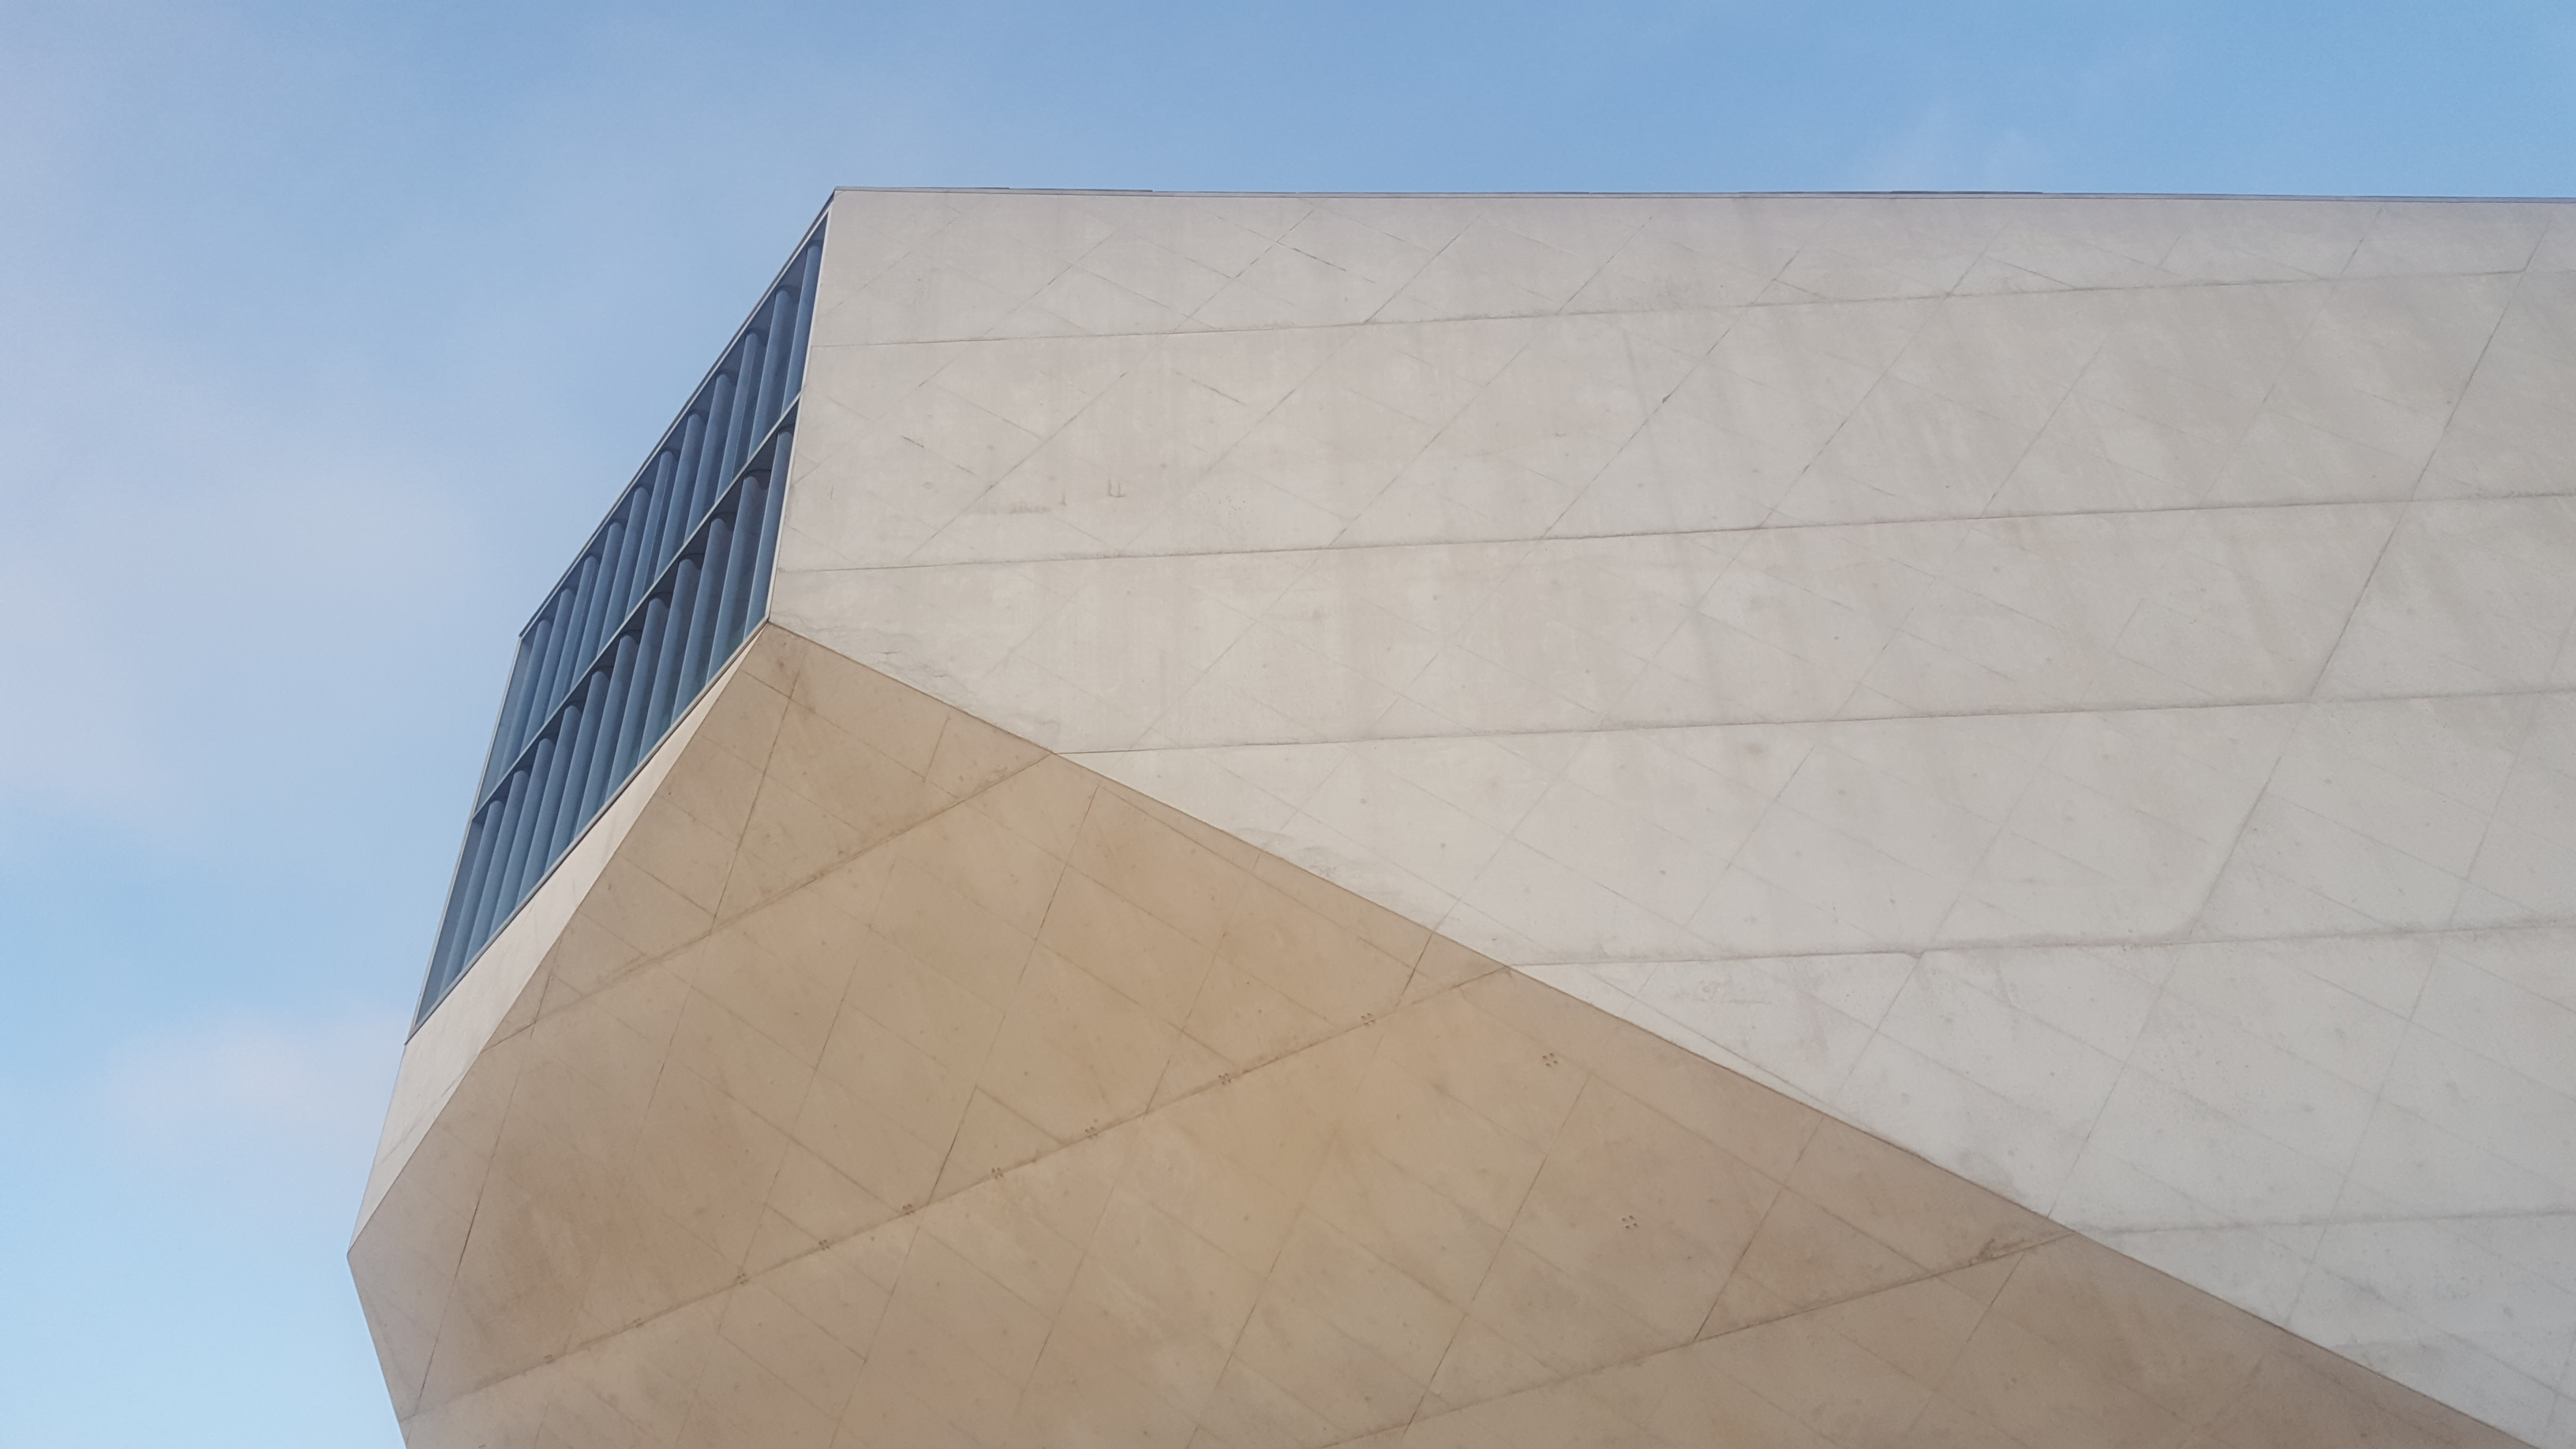musica: (324, 166, 2254, 1279)
